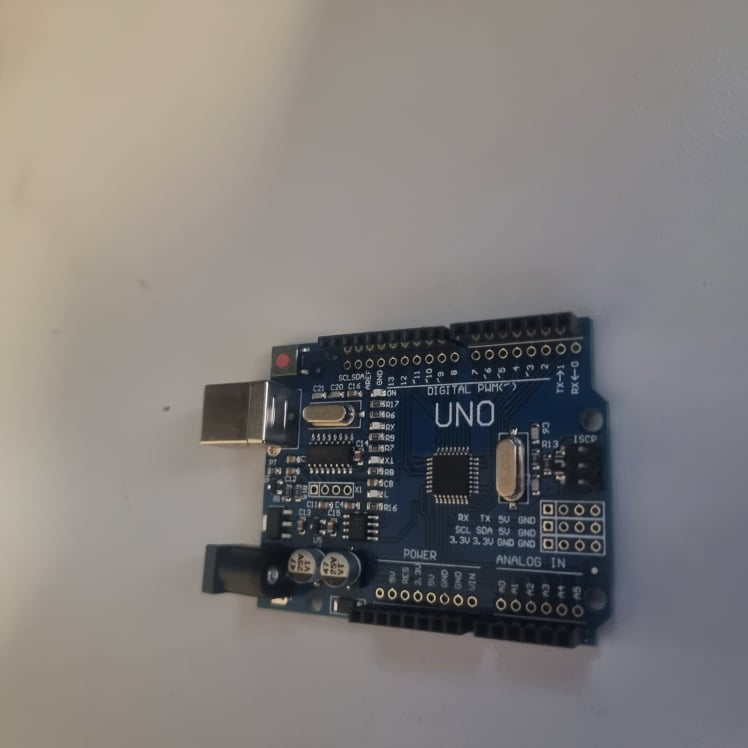UNO R3: (196, 309, 622, 651)
